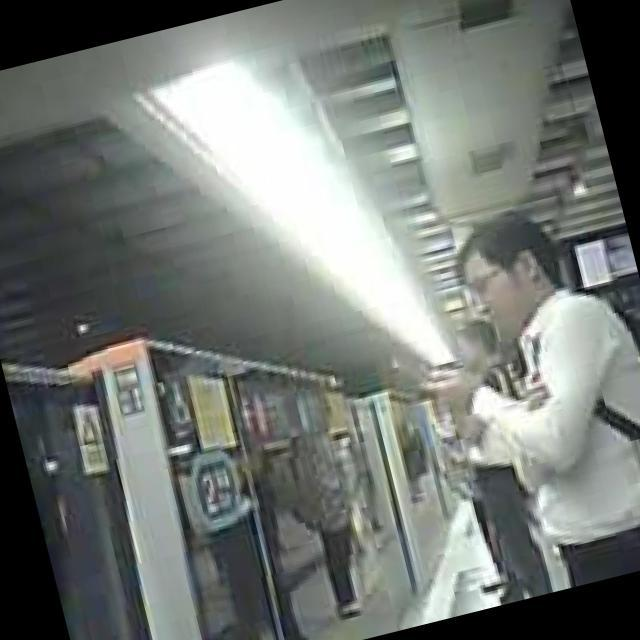person: (400, 186, 640, 607), (416, 314, 564, 609)
